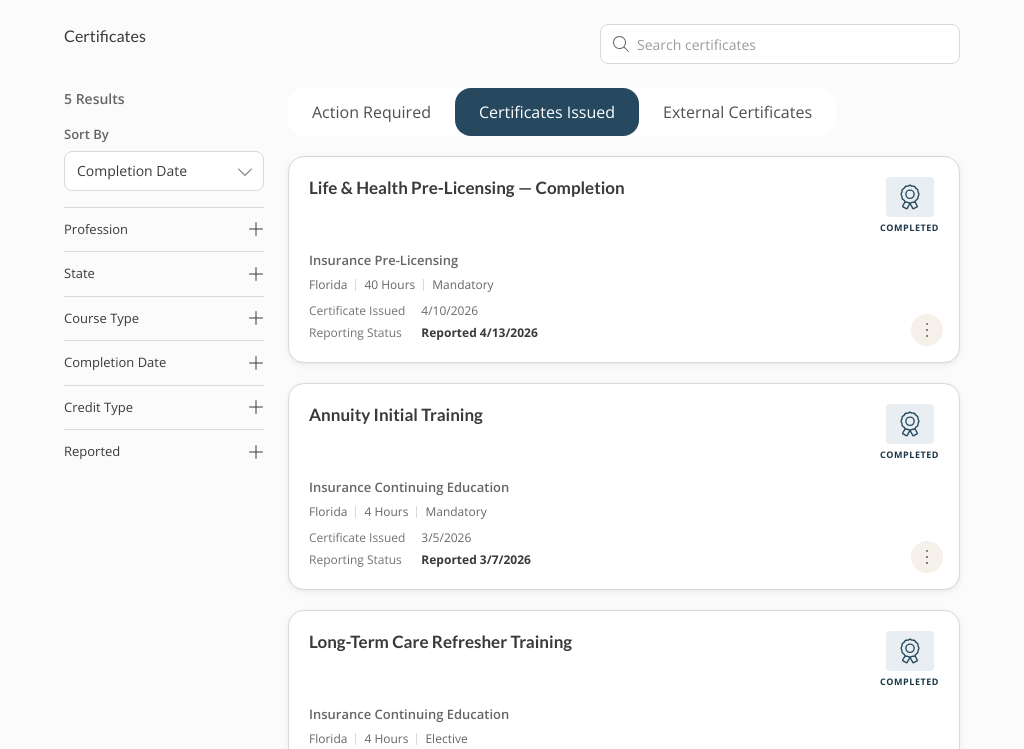
it: CertificatesPage › shows the warning banner + pending pill on the Action Required tab
Click the tab "Action Required". click: (371, 112)
box: [288,88,455,136]
(page scrolled)
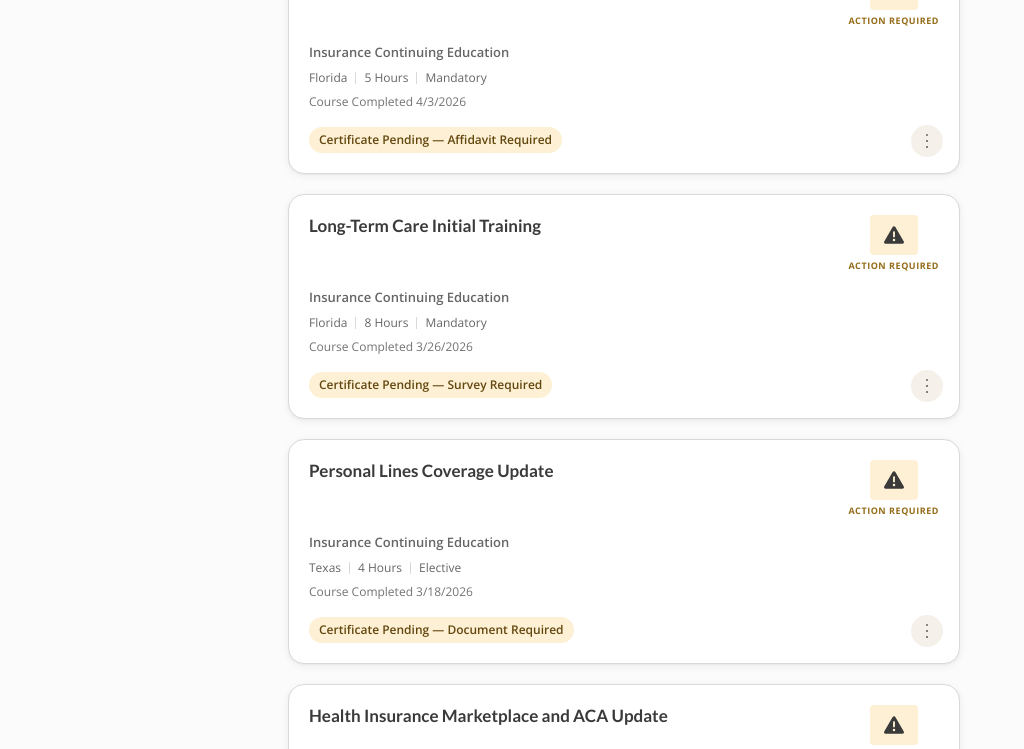
Result: the text "Certificate Pending — Survey Required" is shown at [309,372,552,398]
